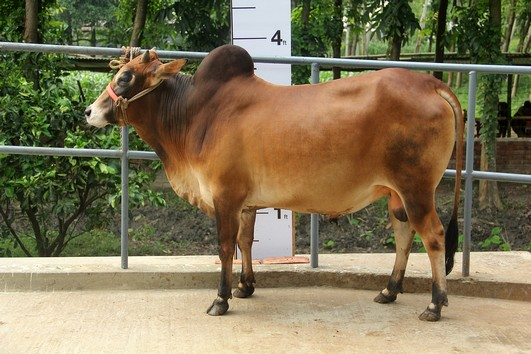cow: (81, 40, 470, 330)
